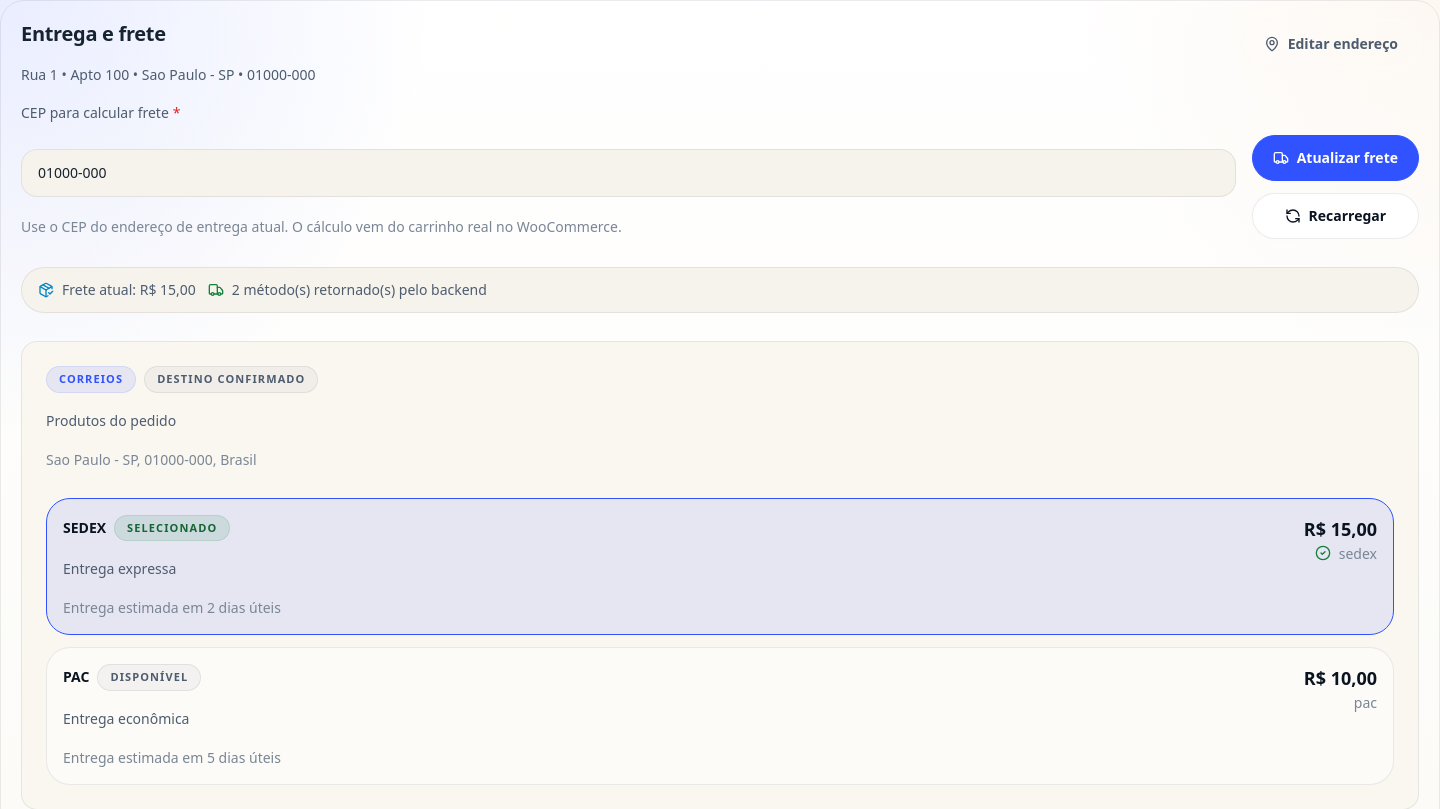
Test: CheckoutShippingSection › shows an error when shipping selection persistence fails
Click the radio button with aria-label "PAC R$ 10,00": (720, 716) [46,647,1394,784]
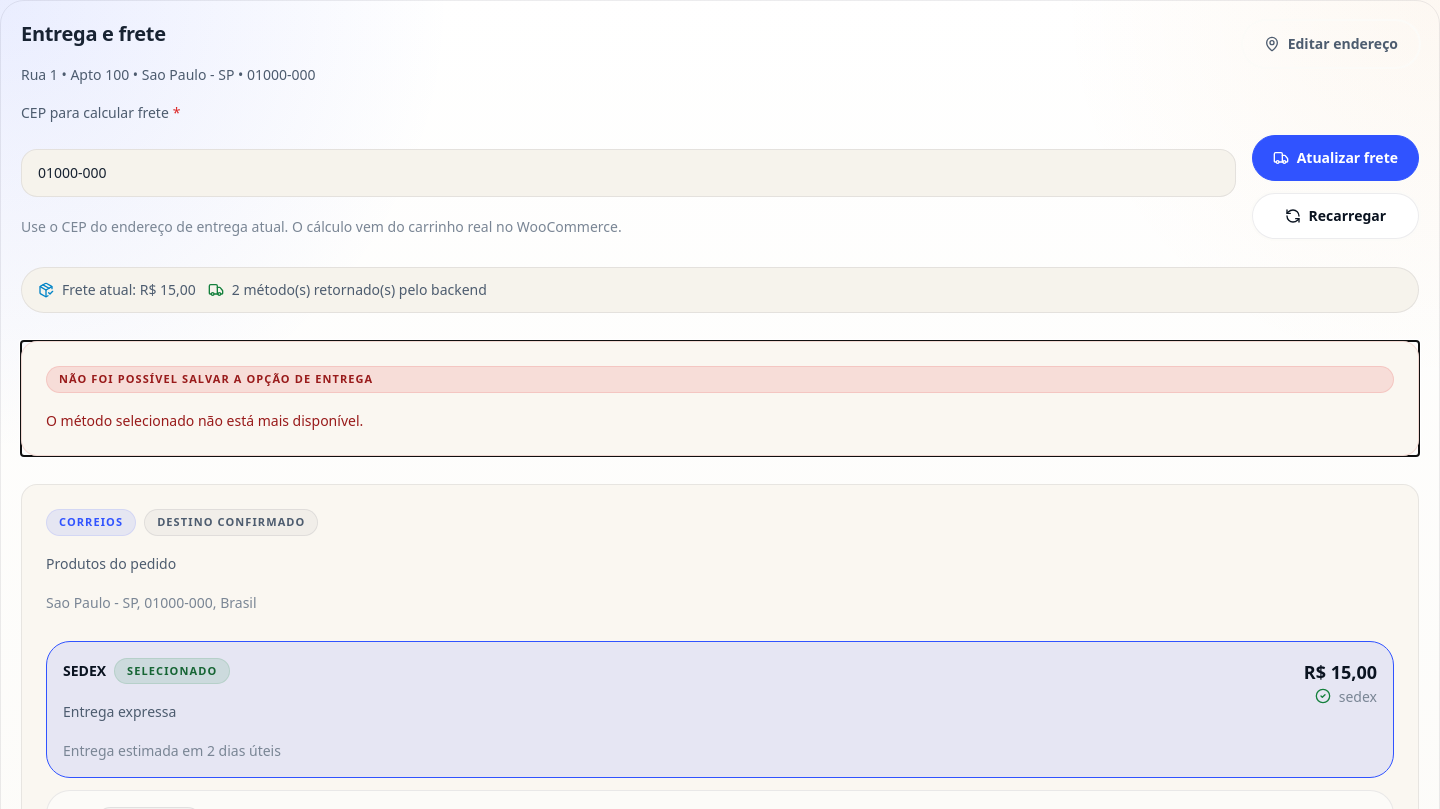
Check: the text "O método selecionado não está mais disponível." is shown, box [46,410,363,430]
